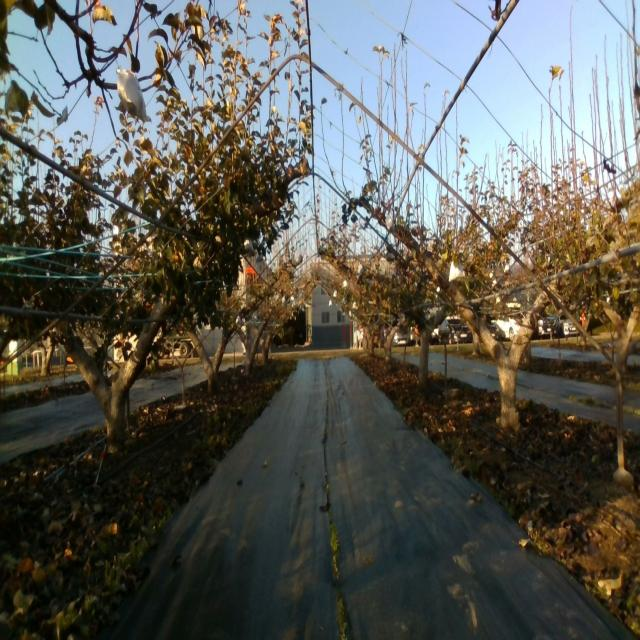pearbags: (115, 65, 148, 124), (448, 258, 464, 282), (385, 211, 395, 234), (243, 233, 254, 253)
